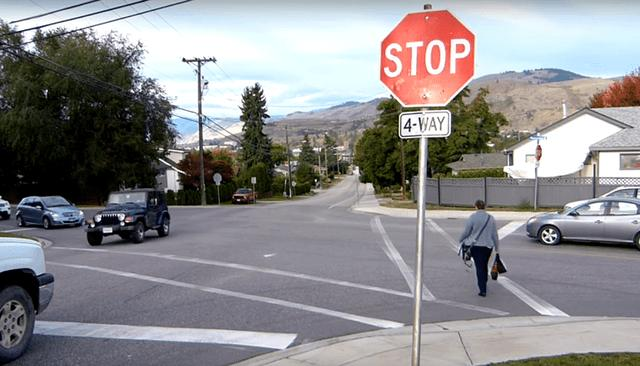Pole: (412, 137, 429, 365), (534, 167, 538, 209), (217, 186, 220, 205)
Sign: (379, 11, 477, 109), (213, 173, 222, 183)
